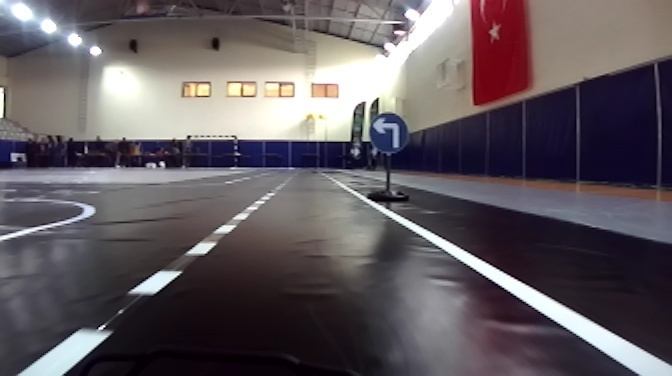sola_donus: (370, 112, 411, 151)
